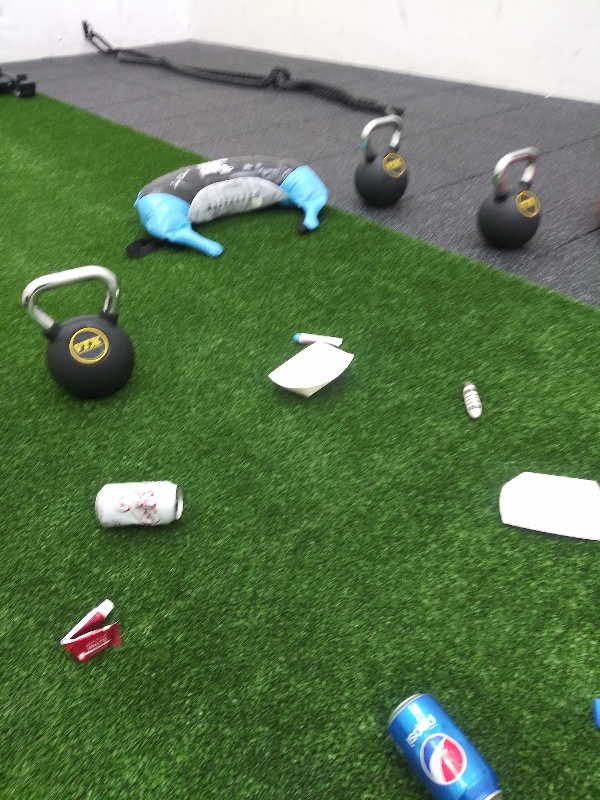can: (383, 690, 512, 800), (90, 476, 190, 530)
plate: (491, 470, 600, 549), (262, 339, 355, 407)
